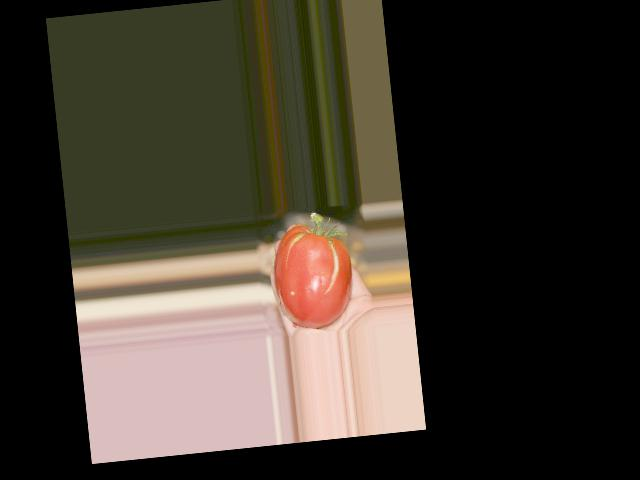tomato: (268, 220, 356, 332)
